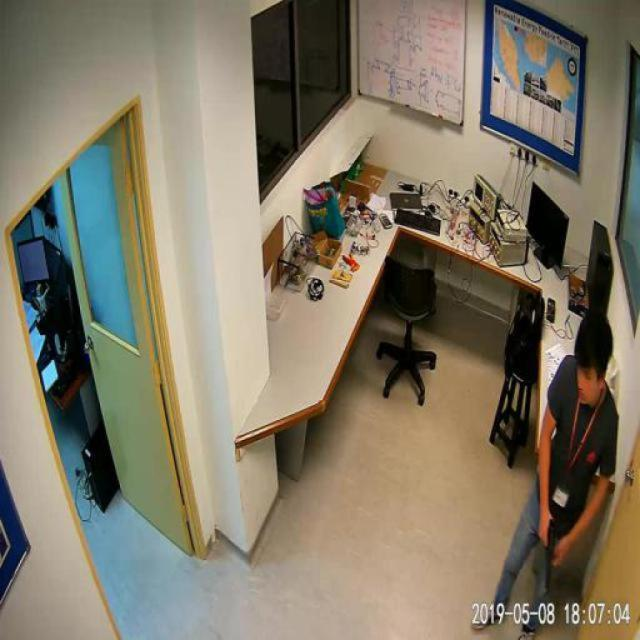pistol: (534, 514, 558, 590)
